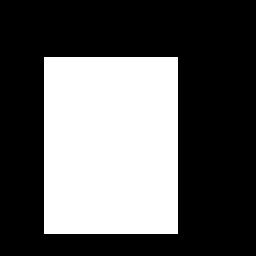person: (44, 57, 177, 233)
